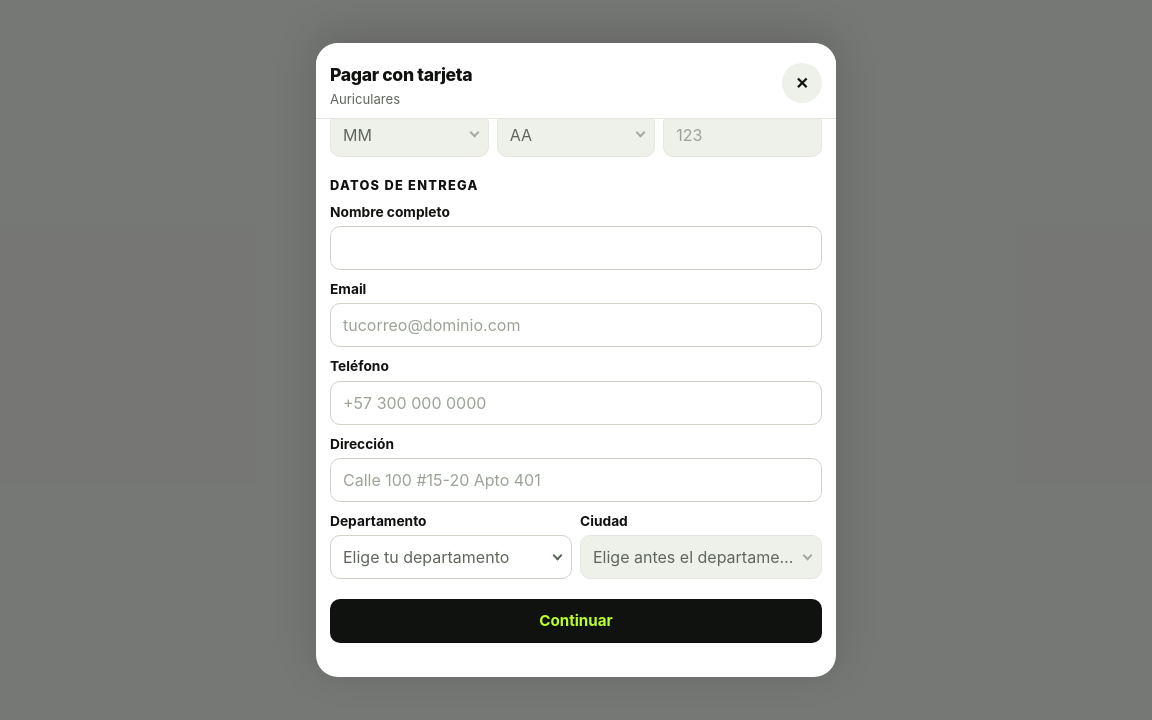
Test: CheckoutModal › closes the list right after picking an option
(page scrolled)
Click the dropdown labelled "Elige tu departamento" at {"x": 451, "y": 557}, box [330, 535, 572, 579]
(page scrolled)
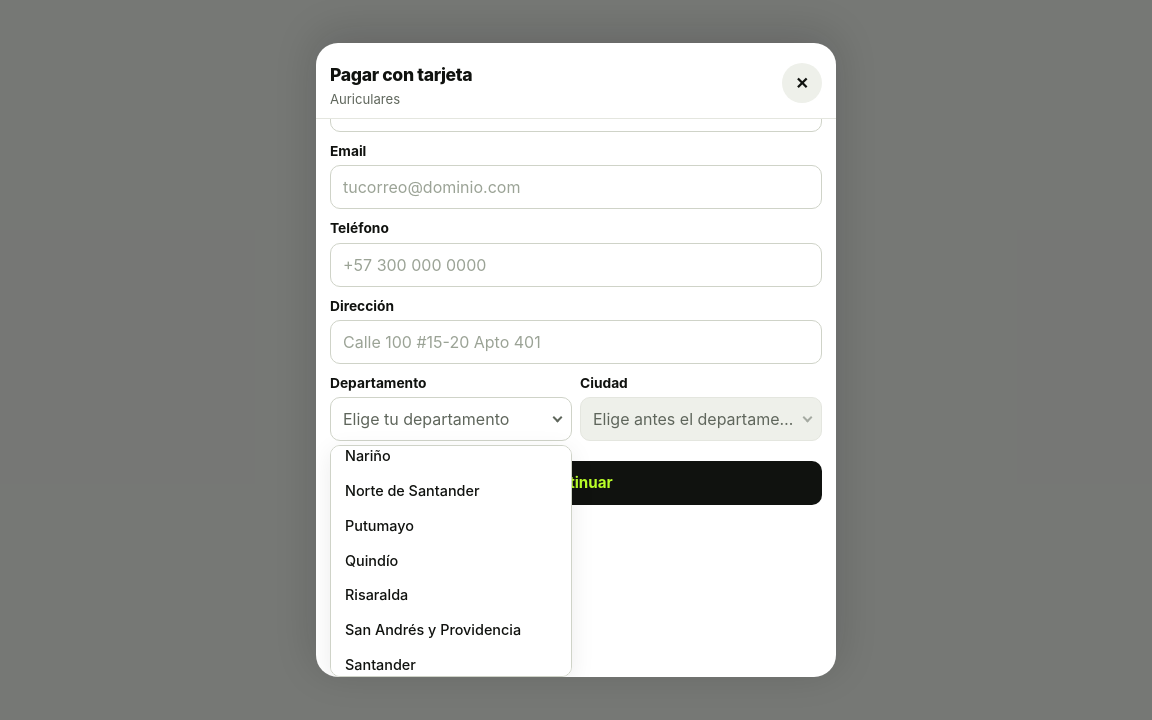
Click the option "Quindío" at {"x": 372, "y": 560}, box [345, 552, 398, 569]
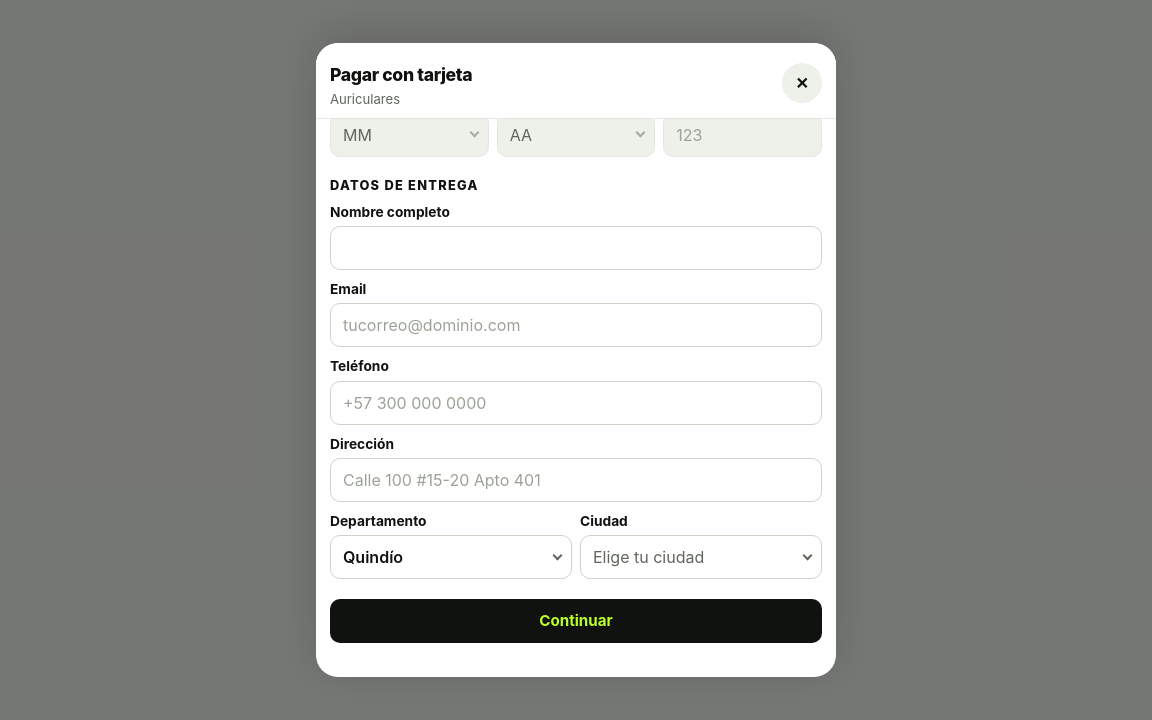
Now no options are shown
Now the text "Quindío" is shown, box [343, 547, 403, 567]
